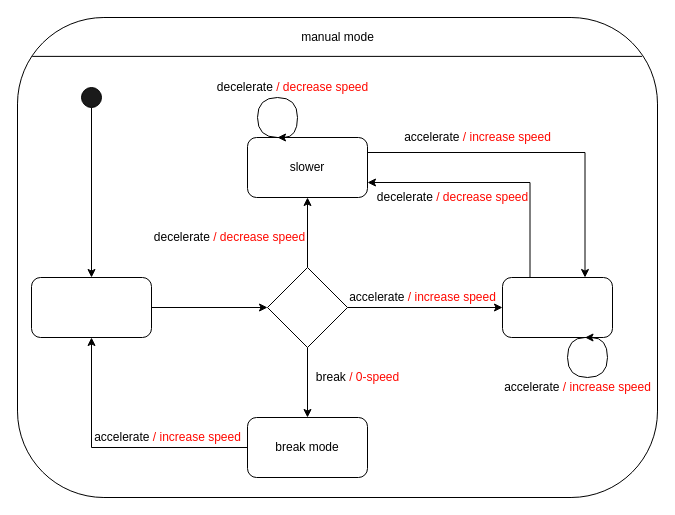
Image size: 675x515. Some labels were removed from this diagram. The box of each missing label's shape, as (x1, y1, x2, y2) in pixels:
faster: (502, 276, 612, 338)
running: (30, 276, 152, 338)
